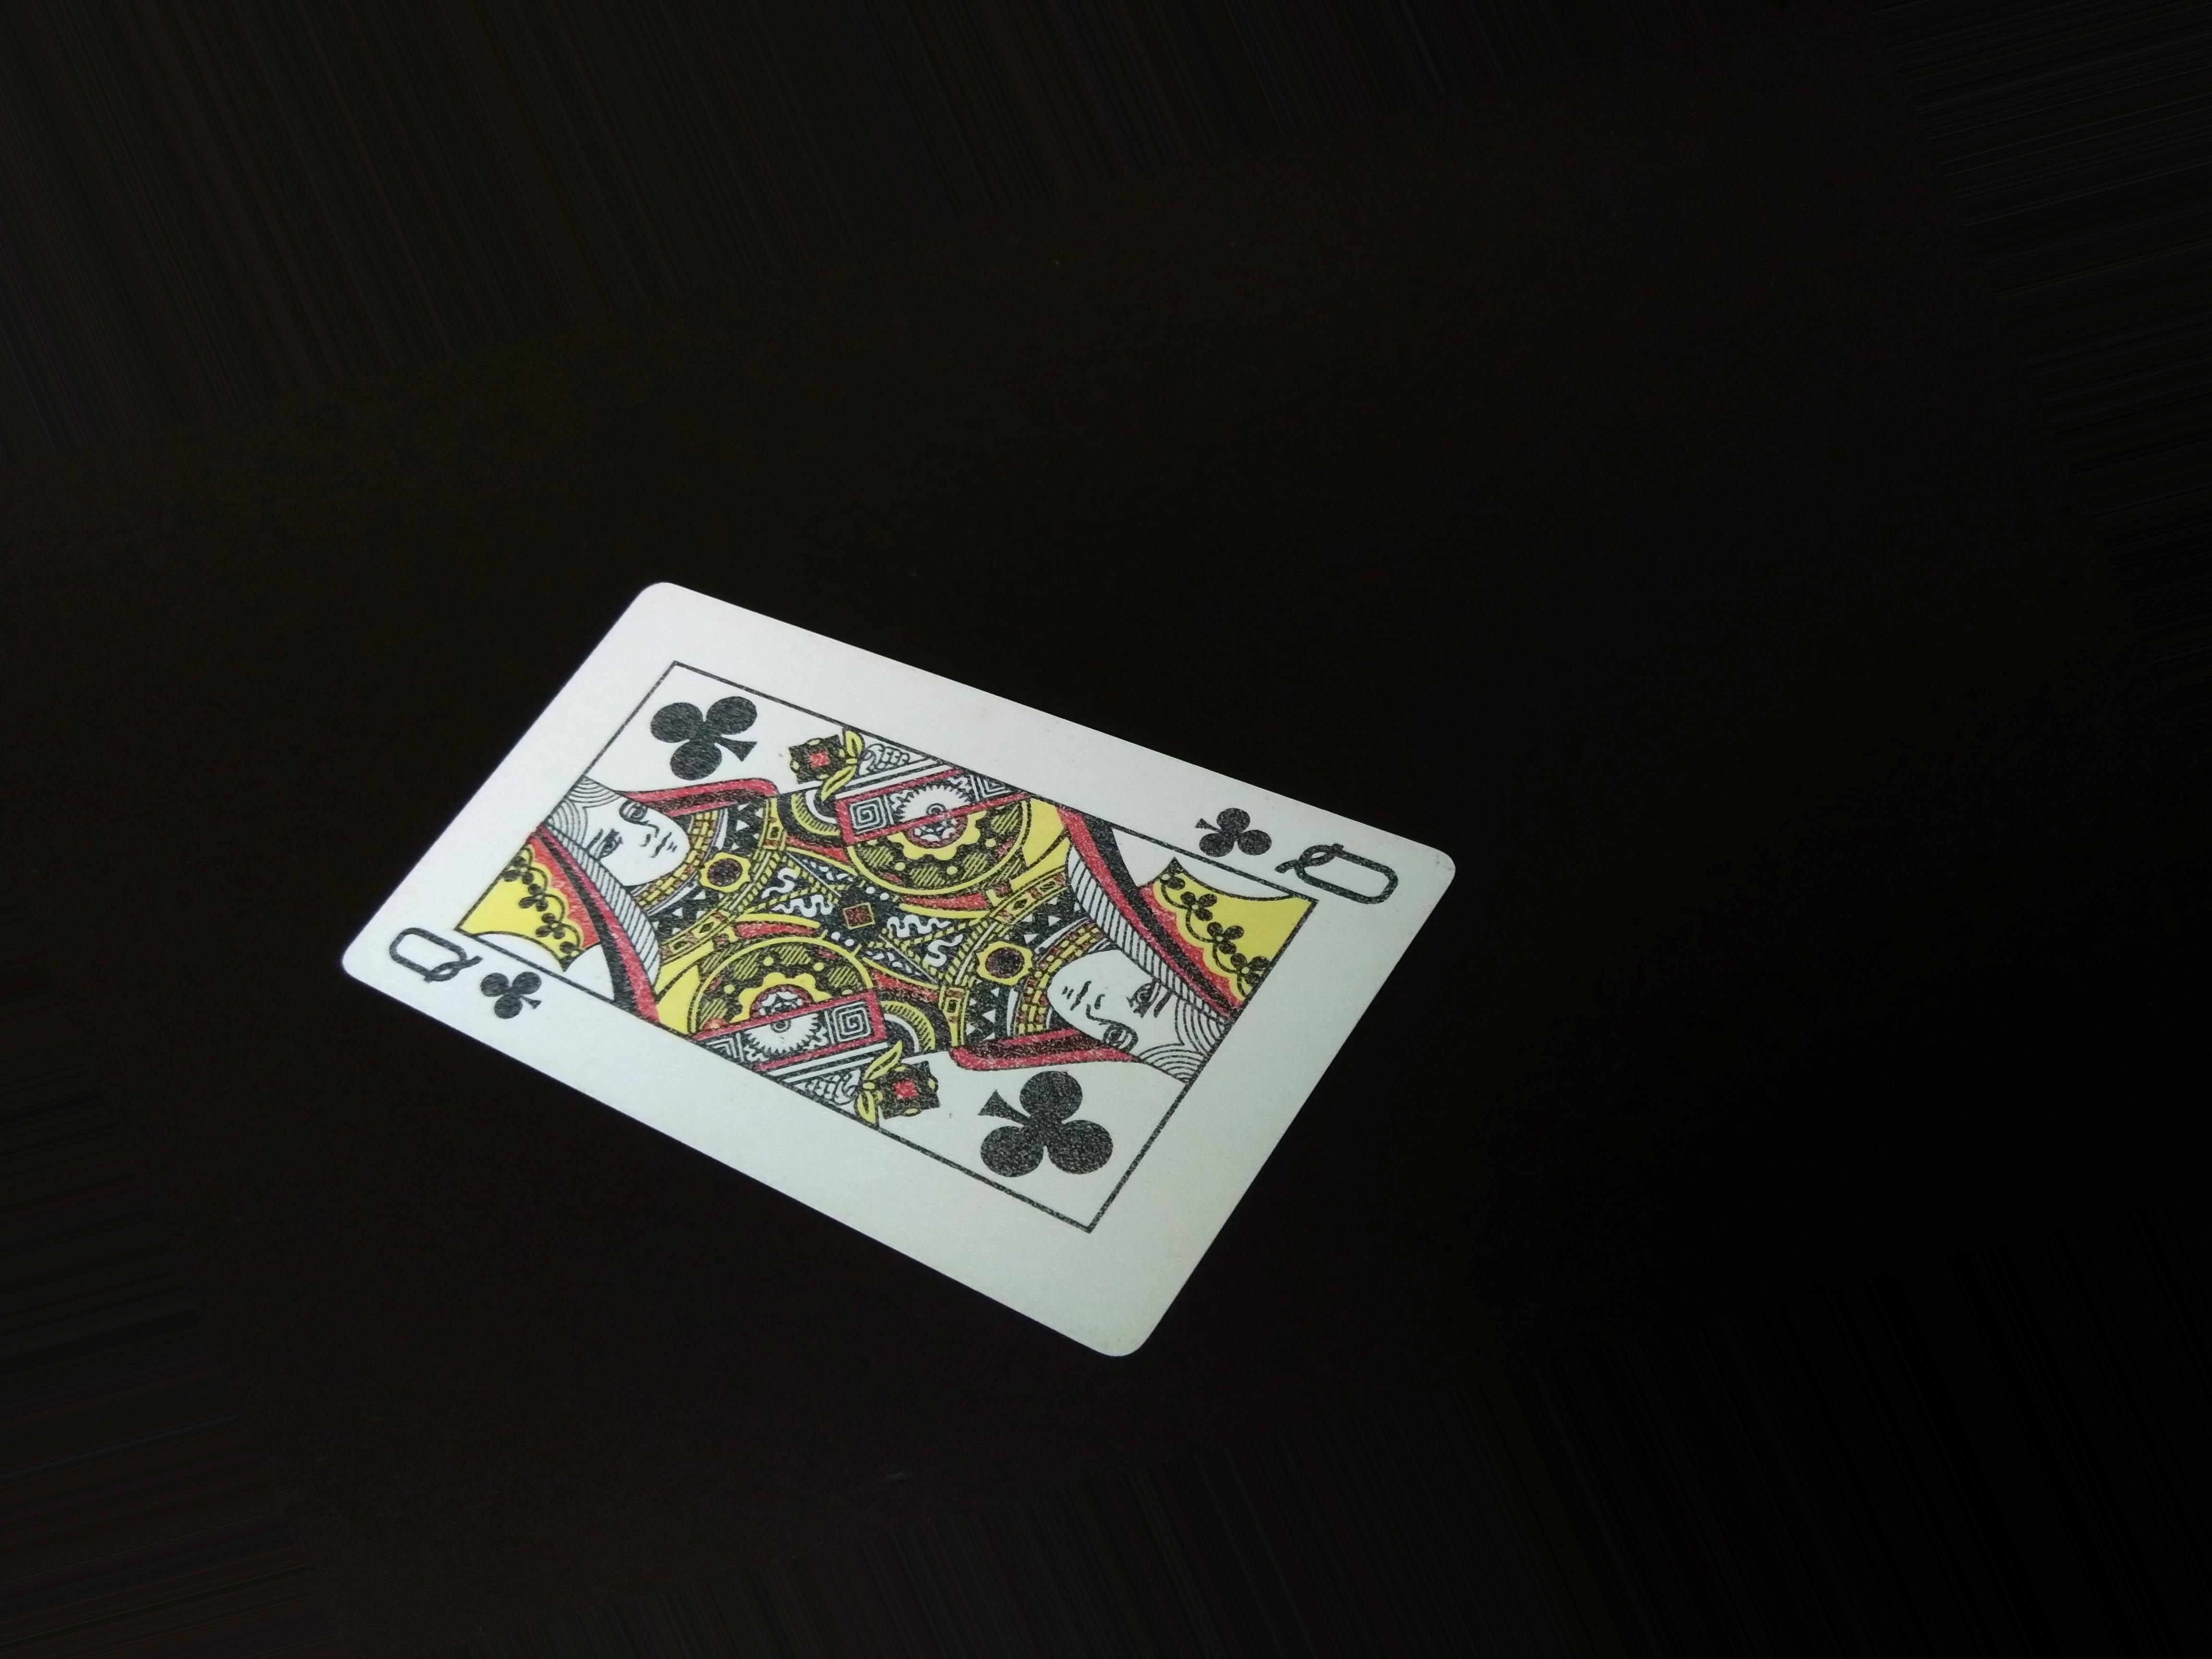QC: (373, 913, 545, 1021)
